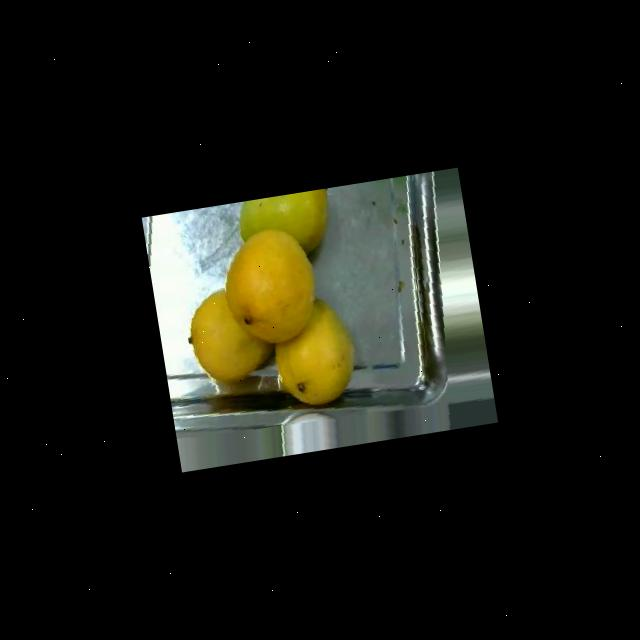Mango: (216, 223, 324, 350), (267, 294, 363, 411), (182, 282, 278, 389), (236, 188, 337, 263)
